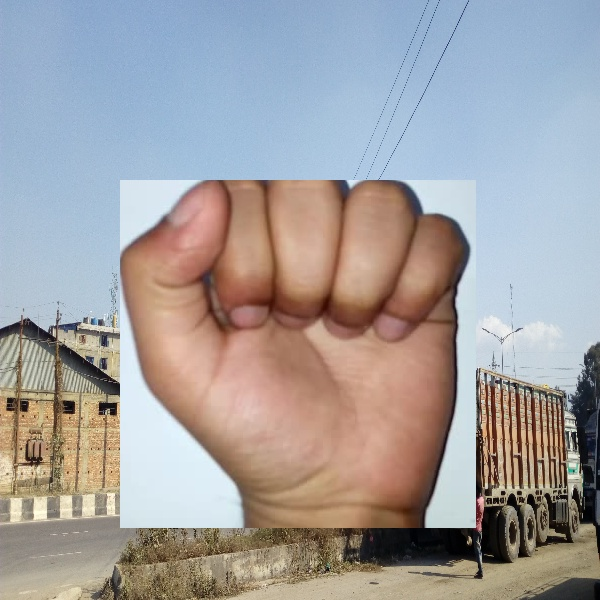A: (120, 180, 476, 528)
